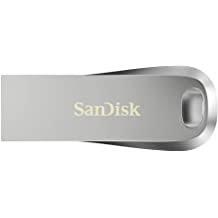Flash-drive: (0, 64, 218, 161)
